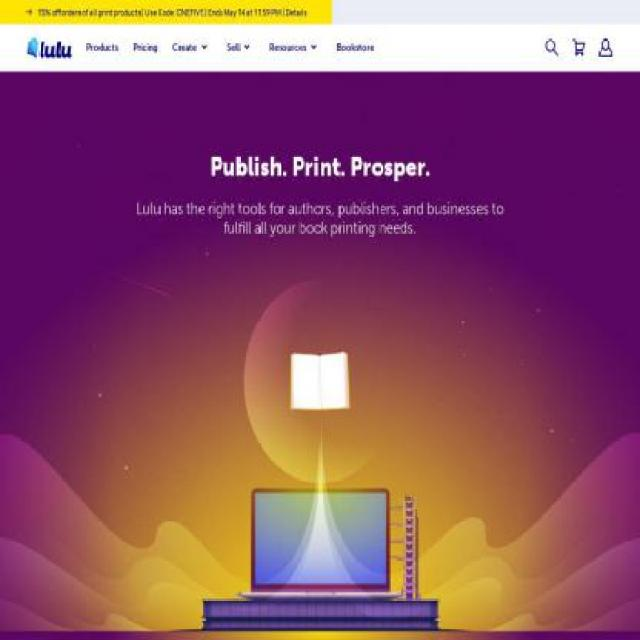button: (38, 7, 307, 18), (269, 38, 322, 70), (26, 34, 74, 61), (172, 38, 212, 70), (336, 38, 375, 70), (86, 38, 119, 70), (227, 38, 256, 70), (133, 38, 158, 70)
